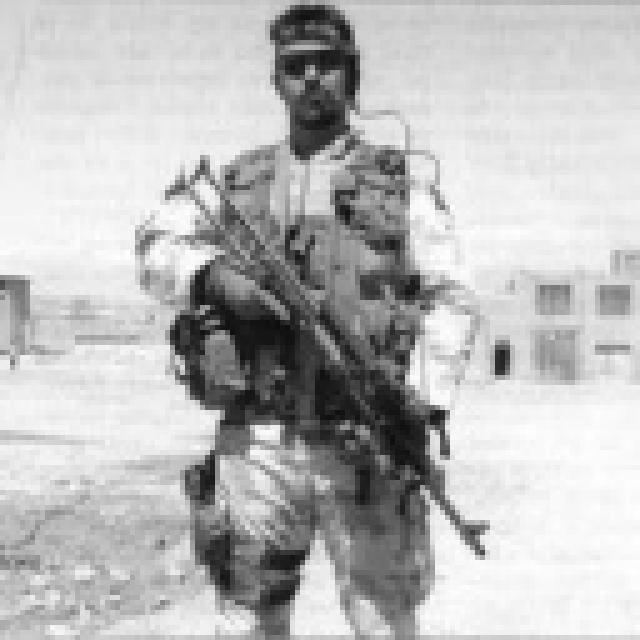Rifle: (0, 0, 525, 610)
